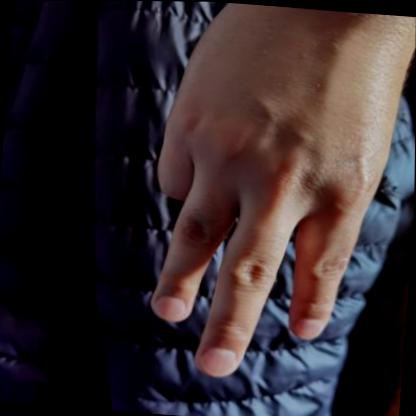M: (105, 1, 416, 399)
